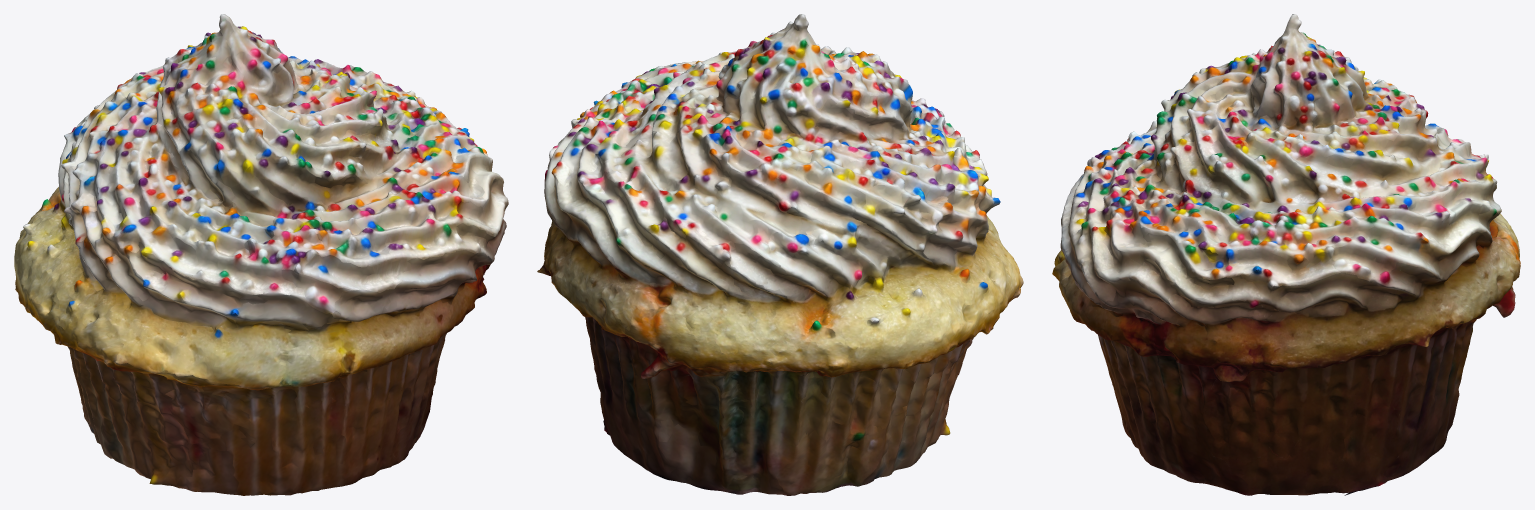
The model's file is Gateau.fbx.
3 views of the same model, side by side, from view 1: azimuth 30°, elevation 25°; view 2: azimuth 150°, elevation 25°; view 3: azimuth 270°, elevation 25° (orthographic). The views are drawn at different scales.
Parts seen in each view (by area): view 1: Object; view 2: Object; view 3: Object.
Part boxes in pixels (x1,y1,x2,y2): Object: (14, 14, 508, 495); Object: (537, 14, 1023, 495); Object: (1052, 14, 1520, 495).
Bounding box in the file's own units: 7.71 × 7.51 × 7.95.
